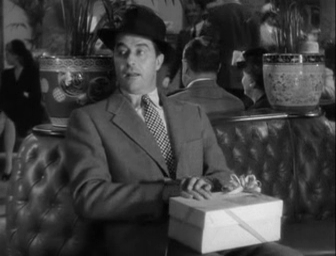face: (113, 35, 154, 93)
ms: (1, 1, 336, 256)
person: (64, 5, 249, 255)
